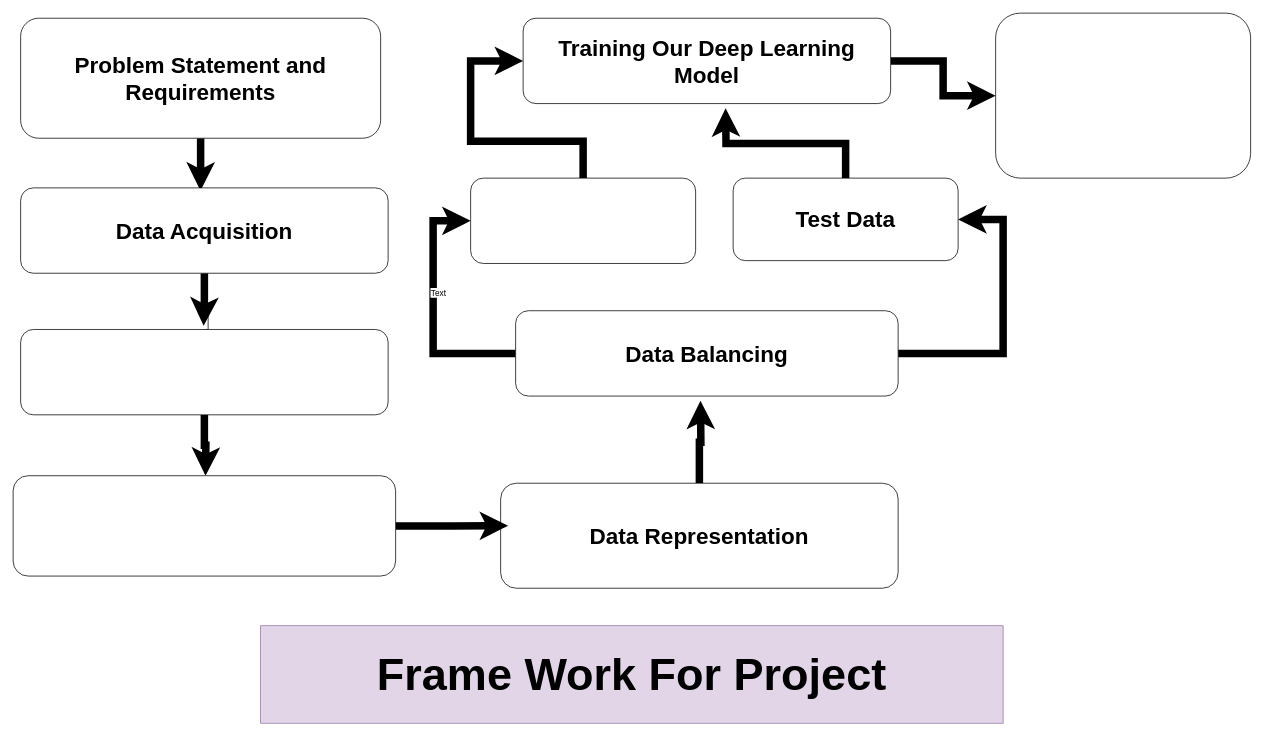
Some shapes in this 1264 by 737 pixel diagram are drawn without their labels. The centre of each missing label's shape, as x and y in pixels:
"Data Preprocessing" goes at (x=204, y=372).
"Evaluating Our Deep Learning Model" goes at (x=1123, y=95).
"Training Data" goes at (x=583, y=220).
"Word Clouds" goes at (x=204, y=525).
